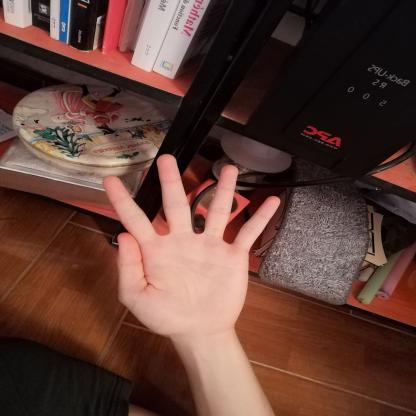SHEEN: (94, 150, 288, 345)
